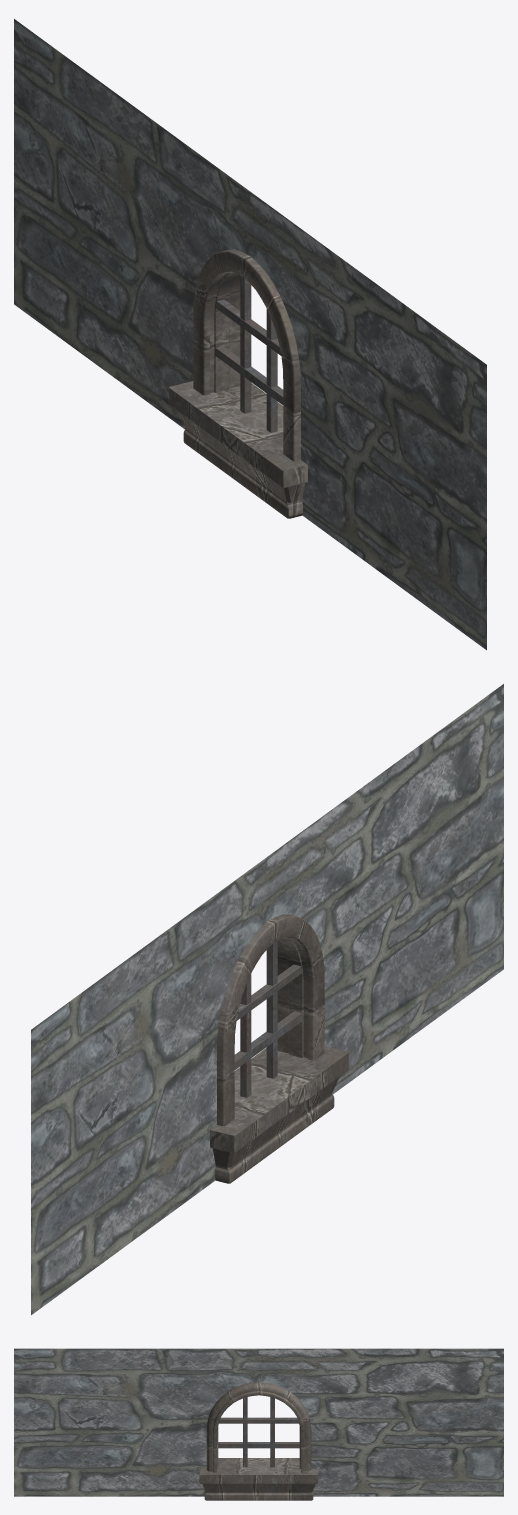
Rendered from SM_Small_Window_Half.glb.
3 views of the same model, one above another, from view 1: azimuth 30°, elevation 25°; view 2: azimuth 150°, elevation 25°; view 3: azimuth 270°, elevation 25° (orthographic). The views are drawn at different scales.
Parts seen in each view (by area): view 1: SM_Small_Window_Half; view 2: SM_Small_Window_Half; view 3: SM_Small_Window_Half.
Part boxes in pixels (box(x1,y1,x2,y2)): SM_Small_Window_Half: box(14, 19, 486, 650); SM_Small_Window_Half: box(31, 684, 503, 1315); SM_Small_Window_Half: box(14, 1348, 503, 1500).
Size of the model in its own units: 0.4897 by 2 by 6.
2 materials, 2 textured.
